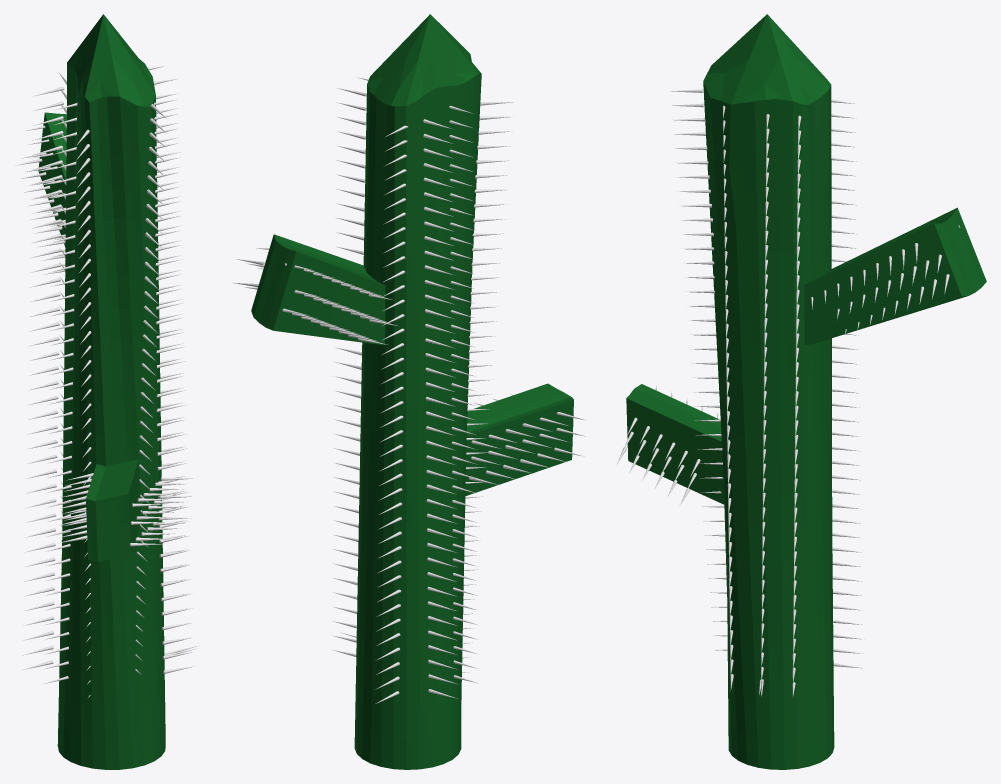
Rendered from cactus.fbx.
The picture shows the model from 3 angles, left to right: view 1: azimuth 30°, elevation 25°; view 2: azimuth 150°, elevation 25°; view 3: azimuth 270°, elevation 25°; orthographic projection. The views are drawn at different scales.
Parts seen in each view (by area): view 1: Cactus, Thorns.006, Thorns.001, Thorns.005, Thorns.002, Thorns.007, Thorns.008, Thorns.010, Thorns.019, Thorns.020, Thorns.021, Thorns.009 (+2 smaller); view 2: Cactus, Thorns.006, Thorns.009, Thorns.003, Thorns.005, Thorns.008; view 3: Cactus, Thorns.007, Thorns.009, Thorns.003, Thorns.001, Thorns.002.
Part boxes in pixels (x1,y1,x2,y2): Cactus: [38, 14, 165, 769]; Thorns.006: [23, 87, 64, 669]; Thorns.001: [154, 99, 194, 673]; Thorns.005: [42, 103, 77, 684]; Thorns.002: [153, 78, 188, 641]; Thorns.007: [135, 104, 167, 674]; Thorns.008: [76, 129, 91, 697]; Thorns.010: [15, 158, 65, 274]; Thorns.019: [132, 477, 192, 506]; Thorns.020: [130, 495, 190, 524]; Thorns.021: [129, 517, 191, 546]; Thorns.009: [58, 72, 66, 597]; Cactus: [251, 14, 573, 769]; Thorns.006: [423, 119, 457, 698]; Thorns.009: [375, 125, 408, 703]; Thorns.003: [332, 88, 366, 656]; Thorns.005: [449, 106, 478, 683]; Thorns.008: [462, 102, 513, 672]; Cactus: [626, 14, 986, 769]; Thorns.007: [670, 89, 727, 650]; Thorns.009: [831, 99, 863, 668]; Thorns.003: [792, 115, 801, 697]; Thorns.001: [722, 105, 733, 690]; Thorns.002: [761, 114, 769, 695].
Size of the model in its own units: 68.86 by 227 by 105.
